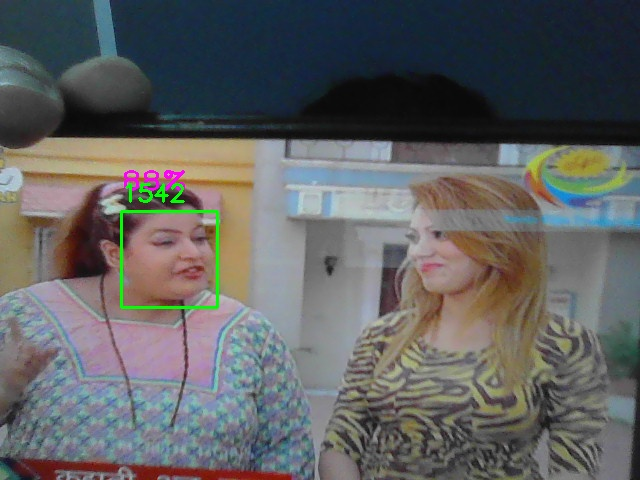fake: (121, 211, 218, 308)
